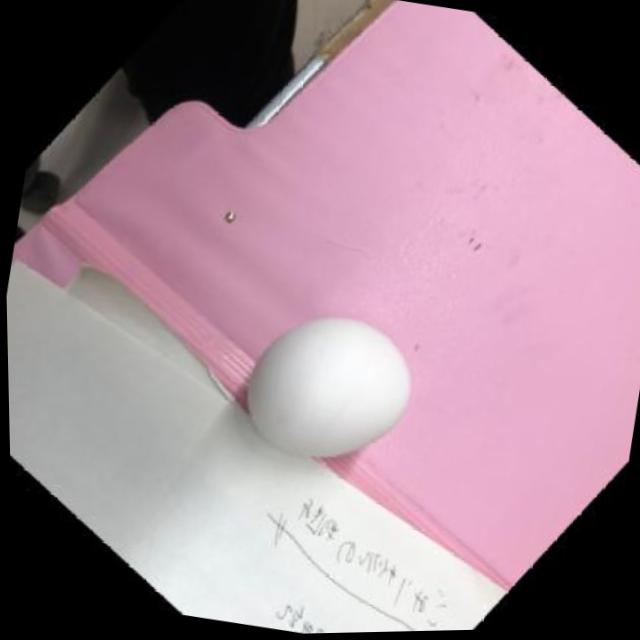egg: (229, 297, 425, 484)
